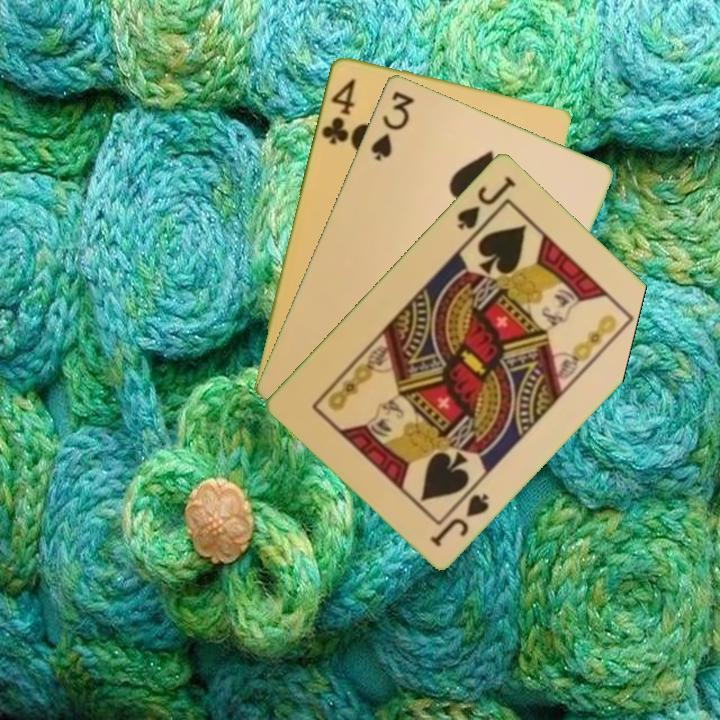3s: (366, 87, 417, 164)
4c: (317, 75, 358, 147)
Js: (426, 480, 493, 550), (453, 172, 519, 233)
